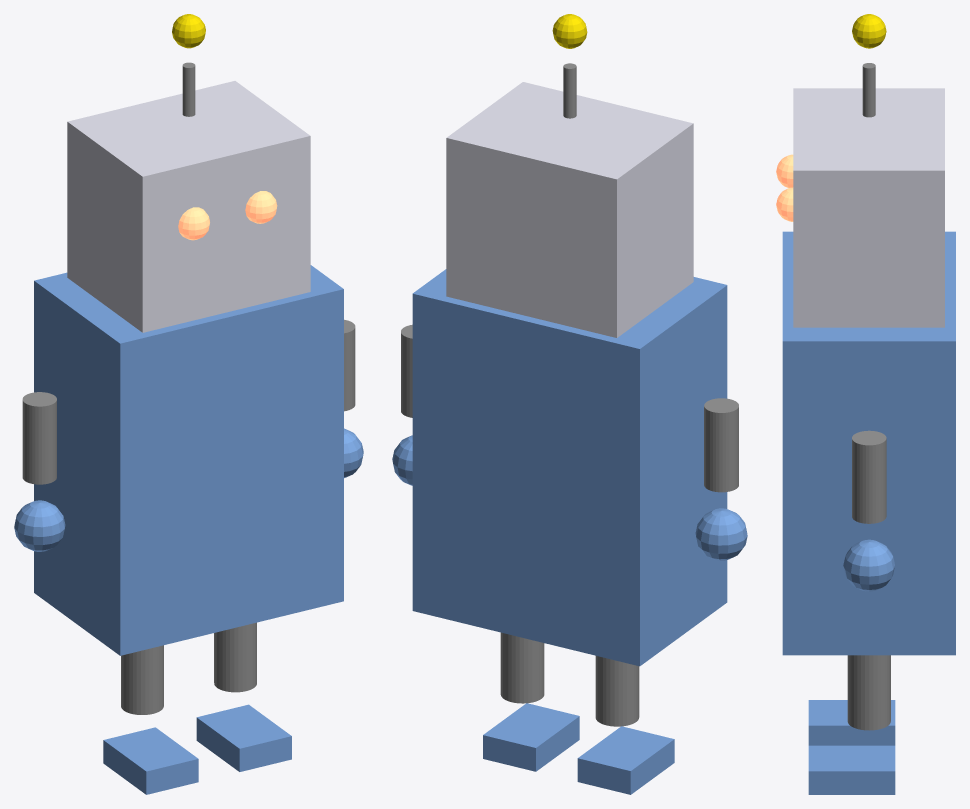
File: hello_robot.glb
The picture shows the model from 3 angles, left to right: view 1: azimuth 30°, elevation 25°; view 2: azimuth 150°, elevation 25°; view 3: azimuth 270°, elevation 25°; orthographic projection.
Visible parts, largest first — view 1: Body, Head, LeftFoot, RightFoot, LeftArm, RightLeg, LeftLeg, LeftHand, RightArm, AntennaBall, LeftEye, RightEye (+2 smaller); view 2: Body, Head, LeftFoot, RightFoot, LeftArm, RightLeg, LeftLeg, LeftHand, RightArm, AntennaBall, RightHand, AntennaPole; view 3: Body, Head, RightFoot, RightLeg, RightArm, LeftFoot, RightHand, AntennaBall, AntennaPole, RightEye, LeftEye.
Boxes of the visible parts, x1,y1,x2,y2 form: Body: [34, 265, 343, 655]; Head: [67, 81, 310, 332]; LeftFoot: [103, 727, 198, 794]; RightFoot: [196, 704, 291, 771]; LeftArm: [22, 392, 56, 484]; RightLeg: [214, 622, 256, 692]; LeftLeg: [121, 645, 163, 714]; LeftHand: [14, 500, 65, 551]; RightArm: [344, 319, 355, 411]; AntennaBall: [172, 14, 205, 48]; LeftEye: [178, 207, 209, 240]; RightEye: [245, 191, 277, 223]; Body: [412, 269, 727, 666]; Head: [446, 82, 693, 337]; LeftFoot: [577, 726, 674, 794]; RightFoot: [483, 703, 579, 771]; LeftArm: [704, 398, 738, 492]; RightLeg: [500, 632, 544, 703]; LeftLeg: [595, 656, 639, 726]; LeftHand: [695, 508, 747, 560]; RightArm: [401, 324, 412, 417]; AntennaBall: [552, 14, 587, 48]; RightHand: [392, 435, 412, 485]; AntennaPole: [563, 63, 576, 118]; Body: [782, 231, 955, 655]; Head: [793, 88, 944, 327]; RightFoot: [808, 745, 895, 794]; RightLeg: [847, 655, 890, 730]; RightArm: [852, 430, 886, 523]; LeftFoot: [808, 700, 895, 745]; RightHand: [843, 539, 895, 591]; AntennaBall: [852, 14, 886, 48]; AntennaPole: [862, 63, 875, 117]; RightEye: [776, 187, 793, 221]; LeftEye: [776, 154, 793, 188].
Size of what is drawn, in the model's own units: 1.84 by 3.79 by 0.83.
